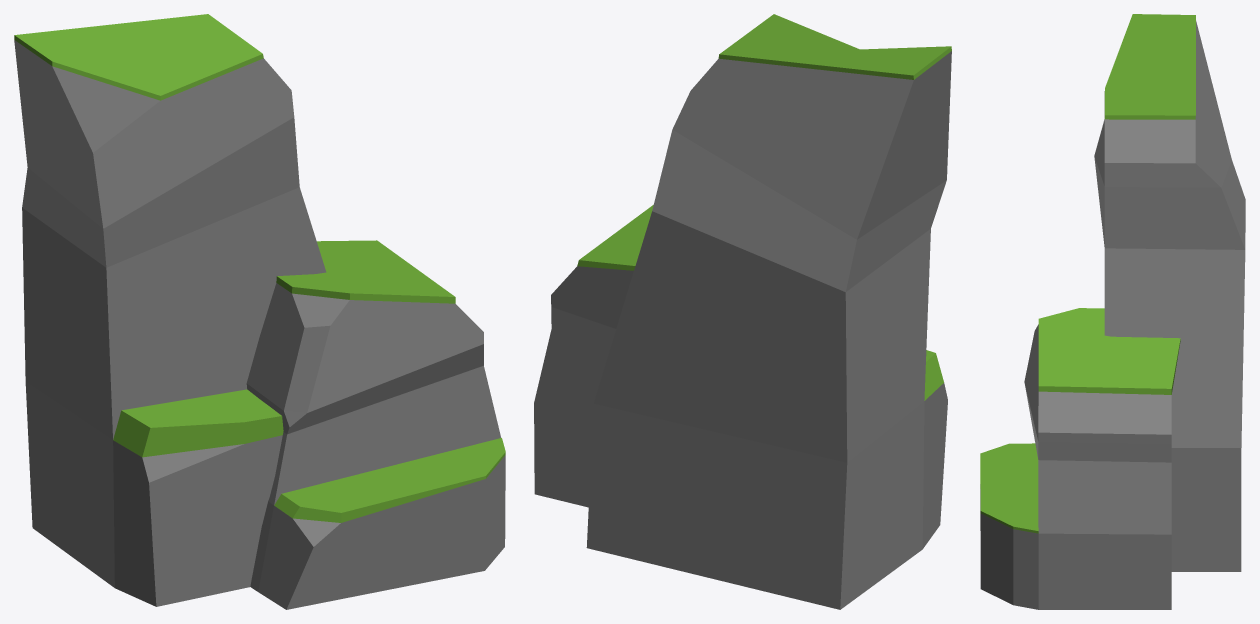
The model's file is SM_Rock_Medium.fbx.
3 renders of one model, left to right at view 1: azimuth 30°, elevation 25°; view 2: azimuth 150°, elevation 25°; view 3: azimuth 270°, elevation 25°, orthographic. The views are drawn at different scales.
Parts seen in each view (by area): view 1: Rock.005; view 2: Rock.005; view 3: Rock.005.
Boxes of the visible parts, <box> form: Rock.005: <box>14,14,505,609</box>; Rock.005: <box>534,14,951,609</box>; Rock.005: <box>980,14,1245,609</box>.
Bounding box in the file's own units: 985 × 1257 × 692.
